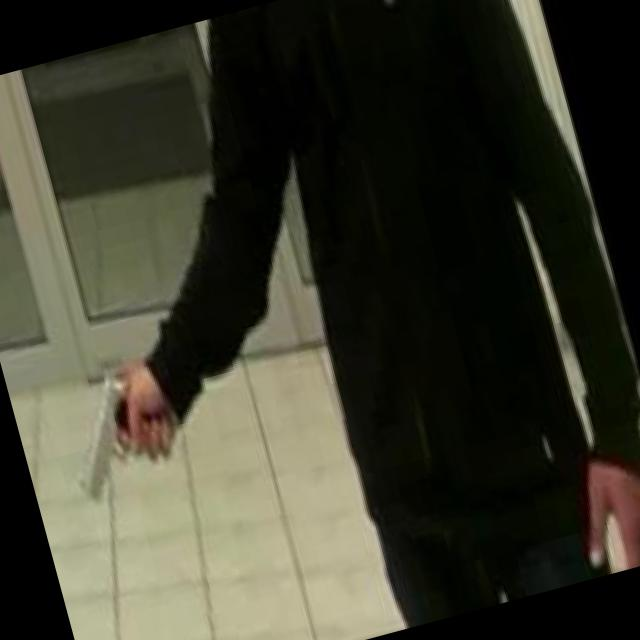Guns: (35, 354, 186, 514)
